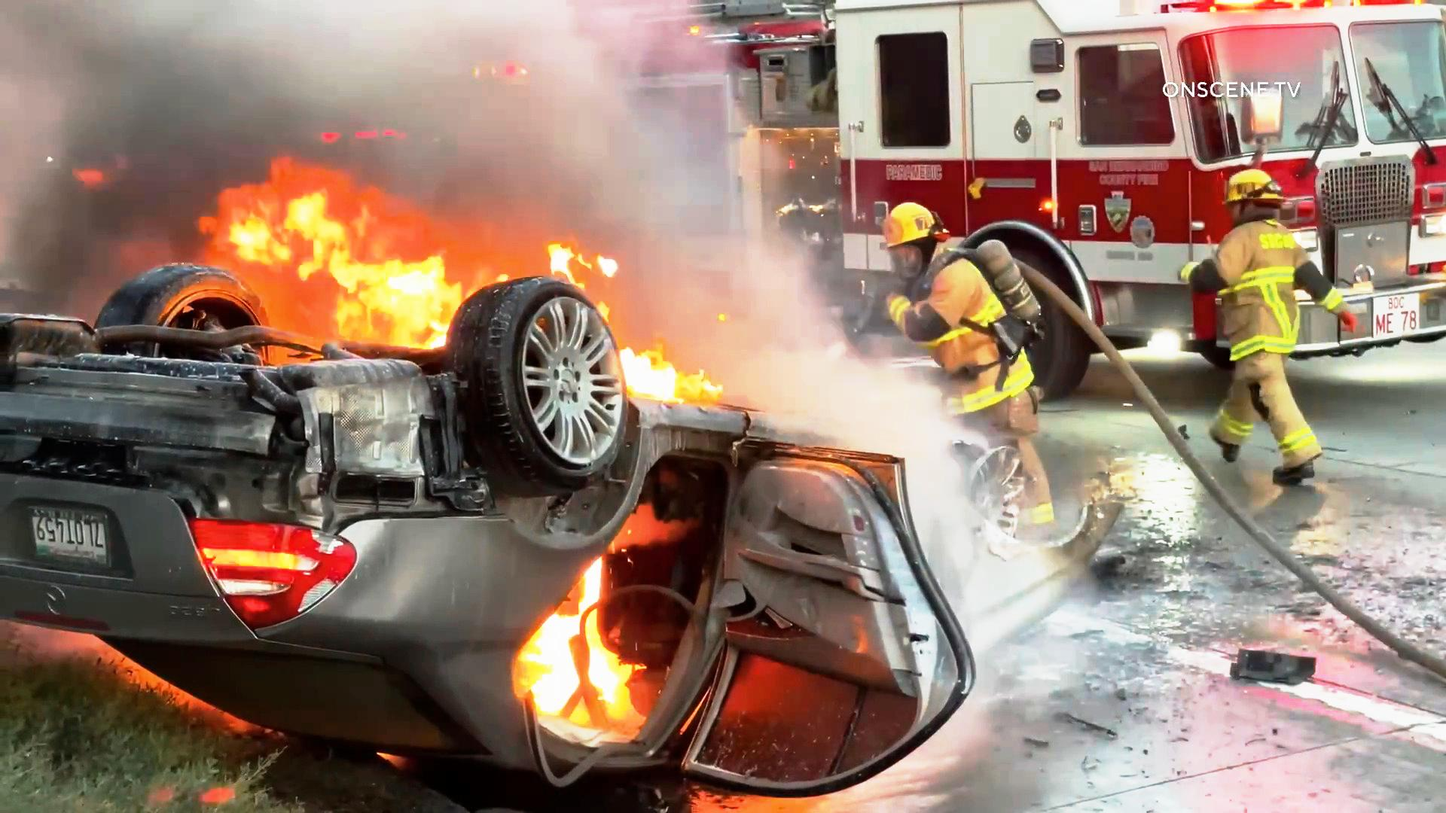fire: (207, 152, 458, 348), (524, 603, 638, 726), (620, 342, 728, 410), (544, 228, 629, 293)
smoke: (213, 2, 698, 151), (3, 0, 199, 266), (699, 175, 851, 443)
